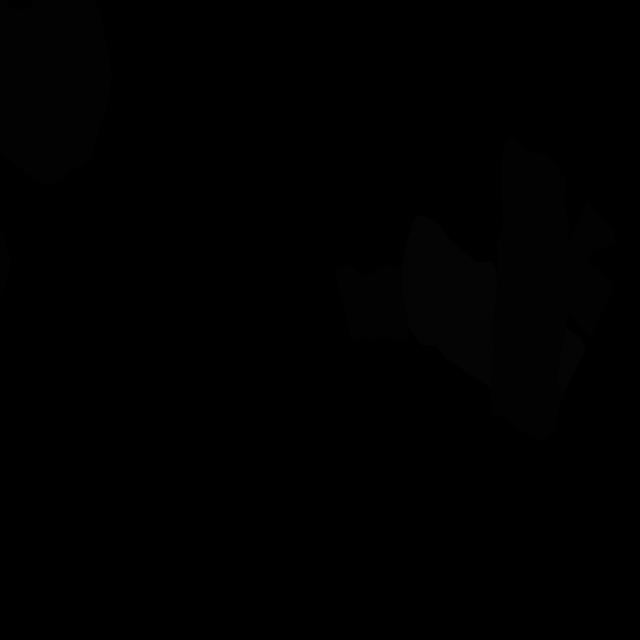cardboard: (490, 138, 570, 442), (565, 201, 618, 338), (334, 264, 408, 340), (0, 231, 11, 295)
soft_plastic: (402, 214, 498, 388), (557, 327, 586, 396)
